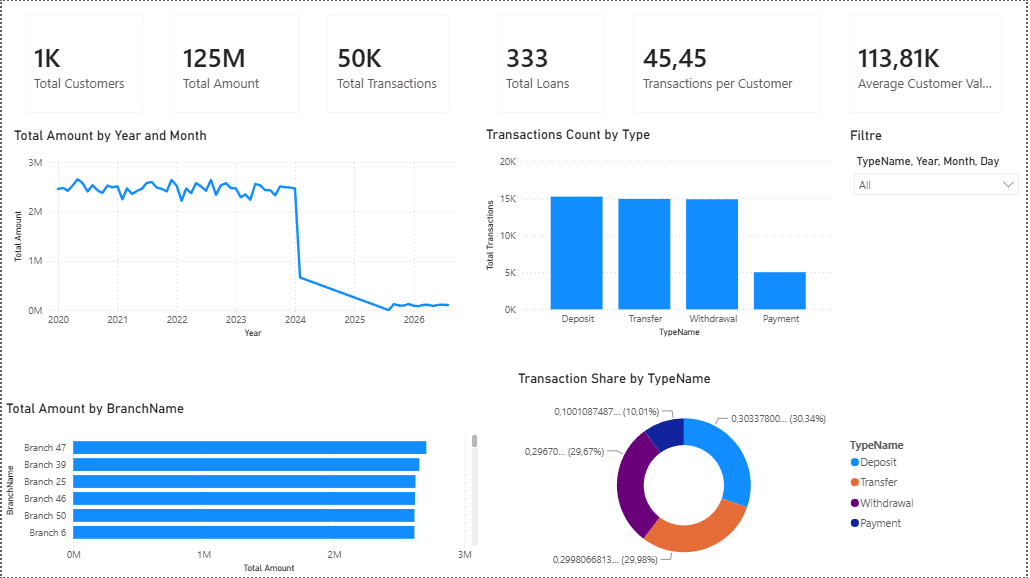

The page's visual inventory and layout, read from the dashboard file:
{"tool":"powerbi","page":{"name":"Overview","canvas":[1280,720],"ordinal":0},"visuals":[{"type":"cardVisual","fields":{"Data":["customers.Total Customers"]},"box":[10,0,184.5,157.3],"z":0},{"type":"cardVisual","fields":{"Data":["transactions.Total Amount"]},"box":[196.4,0,192.7,157.3],"z":1},{"type":"cardVisual","fields":{"Data":["transactions.Total Transactions"]},"box":[388.2,0,187.3,157.3],"z":2},{"type":"cardVisual","fields":{"Data":["loans.Total Loans"]},"box":[600,0,170.9,157.3],"z":3},{"type":"lineChart","fields":{"Y":["transactions.Total Amount"],"Category":["transactions.TransactionDate.Variation.Date Hierarchy.Year","transactions.TransactionDate.Variation.Date Hierarchy.Month"]},"box":[10,157.3,565.5,268.2],"z":4},{"type":"clusteredColumnChart","title":"Transactions Count  by Type","fields":{"Category":["transaction_types.TypeName"],"Y":["transactions.Total Transactions"]},"box":[600,156.7,446.4,268.2],"z":5},{"type":"clusteredBarChart","fields":{"Category":["branches.BranchName"],"Y":["transactions.Total Amount"]},"box":[0,499.1,600,220.9],"z":6},{"type":"cardVisual","fields":{"Data":["transactions.Transactions per Customer"]},"box":[770.9,0,269.1,157.3],"z":7},{"type":"cardVisual","fields":{"Data":["transactions.Average Customer Value"]},"box":[1040,0,227.3,157.3],"z":8},{"type":"donutChart","fields":{"Y":["transactions.Transaction Share"],"Category":["transaction_types.TypeName"]},"box":[640,461.8,513.6,258.2],"z":9},{"type":"slicer","title":"Filtre","fields":{"Values":["transaction_types.TypeName","transactions.TransactionDate.Variation.Date Hierarchy.Year","transactions.TransactionDate.Variation.Date Hierarchy.Month","transactions.TransactionDate.Variation.Date Hierarchy.Day"]},"box":[1054.4,157.8,225.6,285.6],"z":10}]}

Visuals, with their boxes in screenshot pixels (x1, y1, x2, y2), scaled from the page's 1280x720 canvas onto the 1030x578 screenshot:
cardVisual - customers.Total Customers: box=[8, 0, 157, 126]
cardVisual - transactions.Total Amount: box=[158, 0, 313, 126]
cardVisual - transactions.Total Transactions: box=[312, 0, 463, 126]
cardVisual - loans.Total Loans: box=[483, 0, 620, 126]
lineChart - transactions.Total Amount x transactions.TransactionDate.Variation.Date Hierarchy.Year: box=[8, 126, 463, 342]
"Transactions Count  by Type" clusteredColumnChart: box=[483, 126, 842, 341]
clusteredBarChart - branches.BranchName x transactions.Total Amount: box=[0, 401, 483, 577]
cardVisual - transactions.Transactions per Customer: box=[620, 0, 837, 126]
cardVisual - transactions.Average Customer Value: box=[837, 0, 1020, 126]
donutChart - transactions.Transaction Share x transaction_types.TypeName: box=[515, 371, 928, 577]
"Filtre" slicer: box=[848, 127, 1029, 356]
